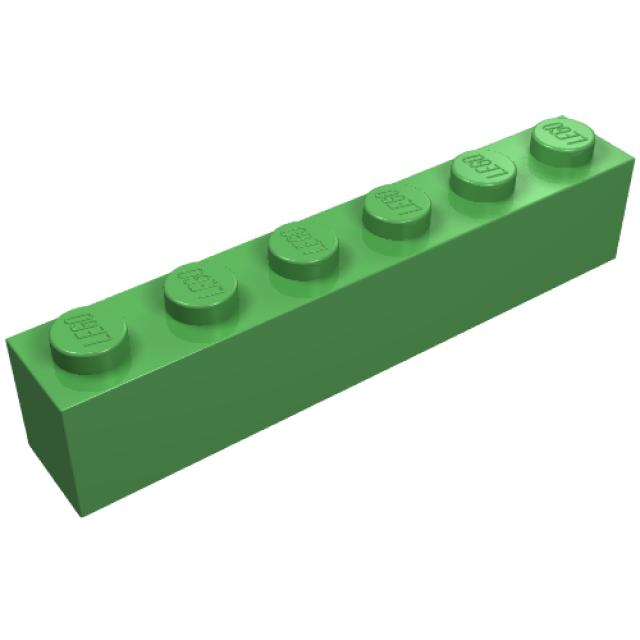Green_Large: (5, 116, 637, 520)
